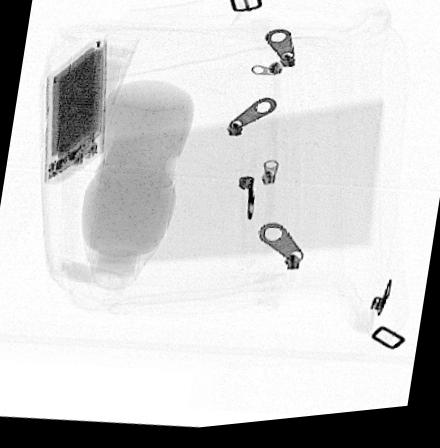Powerbank: (44, 40, 108, 187)
